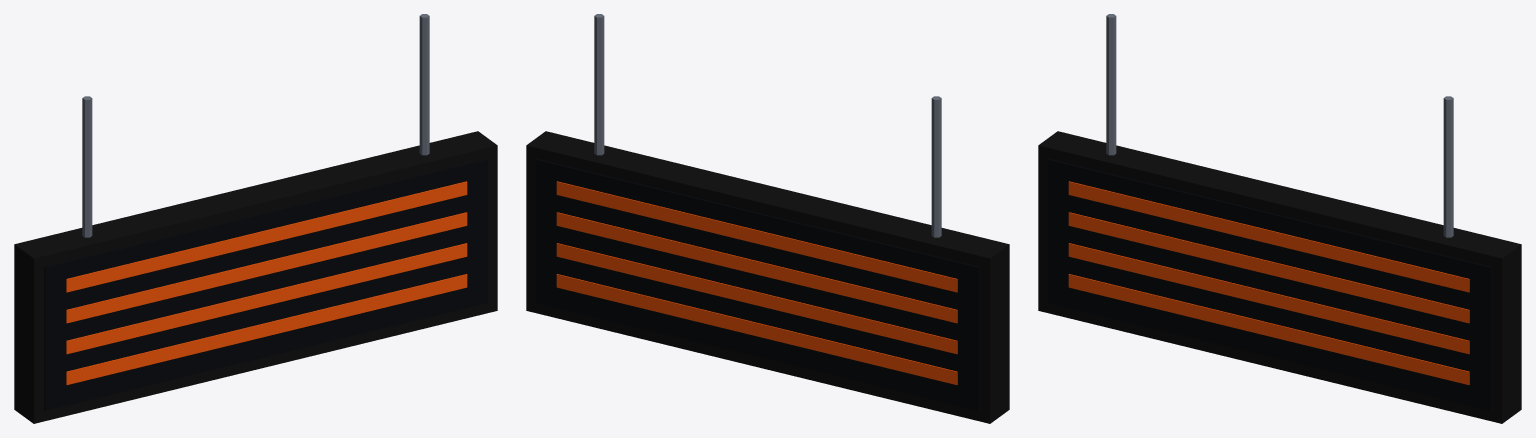
The model's file is station.rail.departure_board.glb.
3 views of the same model, side by side, from view 1: azimuth 30°, elevation 25°; view 2: azimuth 150°, elevation 25°; view 3: azimuth 330°, elevation 25° (orthographic).
Visible parts, largest first — view 1: main__screen, main__plastic_black, main__hivis_orange, main__steel_painted; view 2: main__screen, main__plastic_black, main__hivis_orange, main__steel_painted; view 3: main__screen, main__plastic_black, main__hivis_orange, main__steel_painted.
Part boxes in pixels (<box>): main__screen: <box>44,159,487,410</box>; main__plastic_black: <box>14,131,497,423</box>; main__hivis_orange: <box>66,181,467,384</box>; main__steel_painted: <box>82,14,429,237</box>; main__screen: <box>536,159,979,410</box>; main__plastic_black: <box>526,131,1009,423</box>; main__hivis_orange: <box>556,181,957,384</box>; main__steel_painted: <box>594,14,941,237</box>; main__screen: <box>1048,159,1491,410</box>; main__plastic_black: <box>1038,131,1521,423</box>; main__hivis_orange: <box>1068,181,1469,384</box>; main__steel_painted: <box>1106,14,1453,237</box>.
Bounding box in the file's own units: 2.2 × 1.38 × 0.182.
